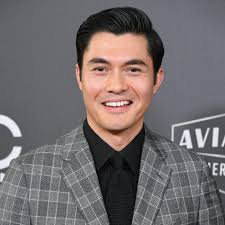bare: (81, 79, 153, 132)
